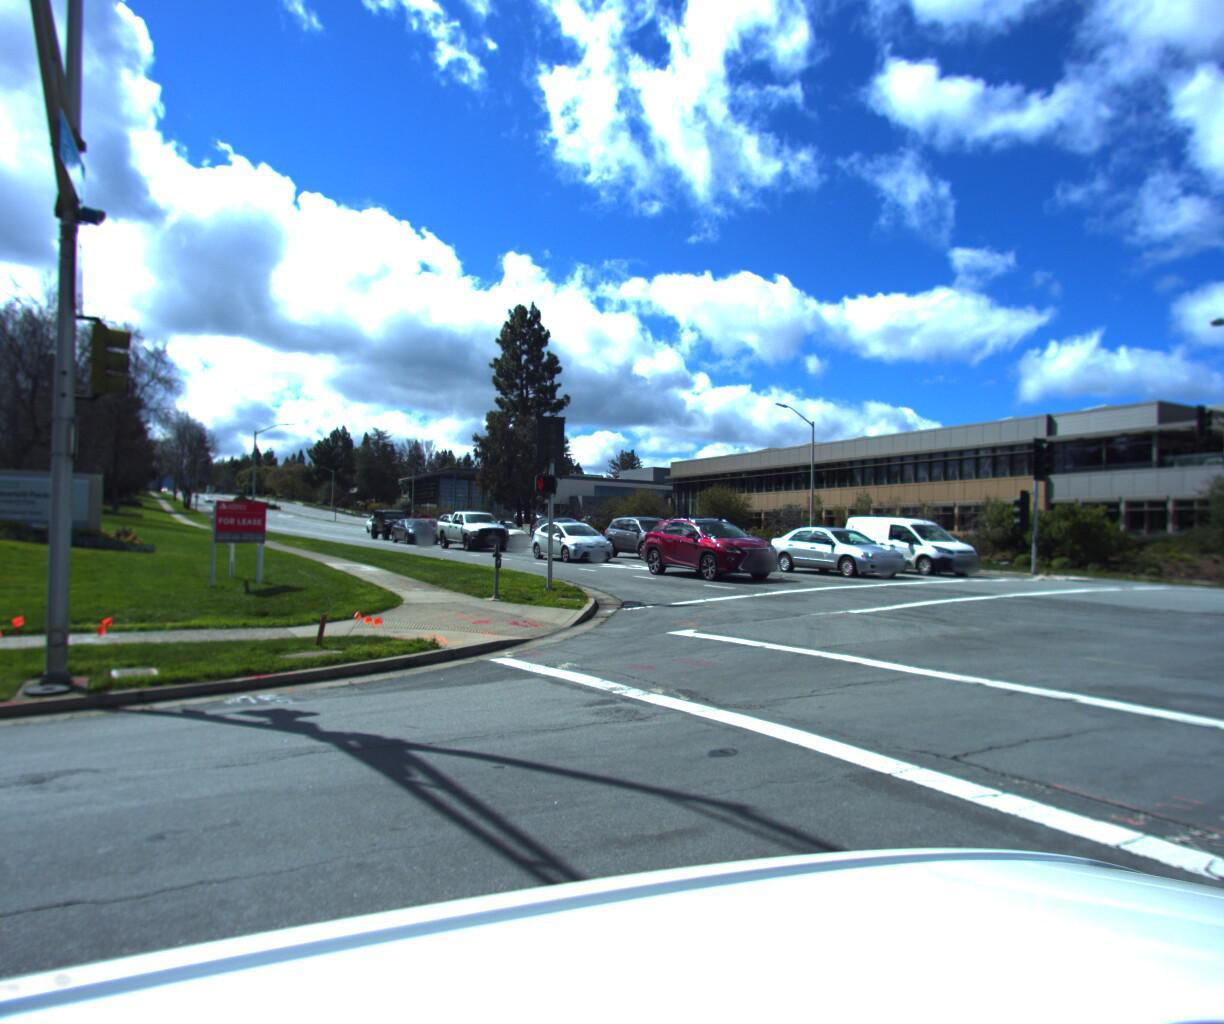car: (626, 517, 783, 590), (831, 518, 986, 583), (758, 529, 912, 584), (597, 522, 694, 568), (521, 525, 620, 570), (430, 514, 514, 558), (475, 523, 538, 554), (385, 523, 442, 552), (370, 515, 415, 546)
